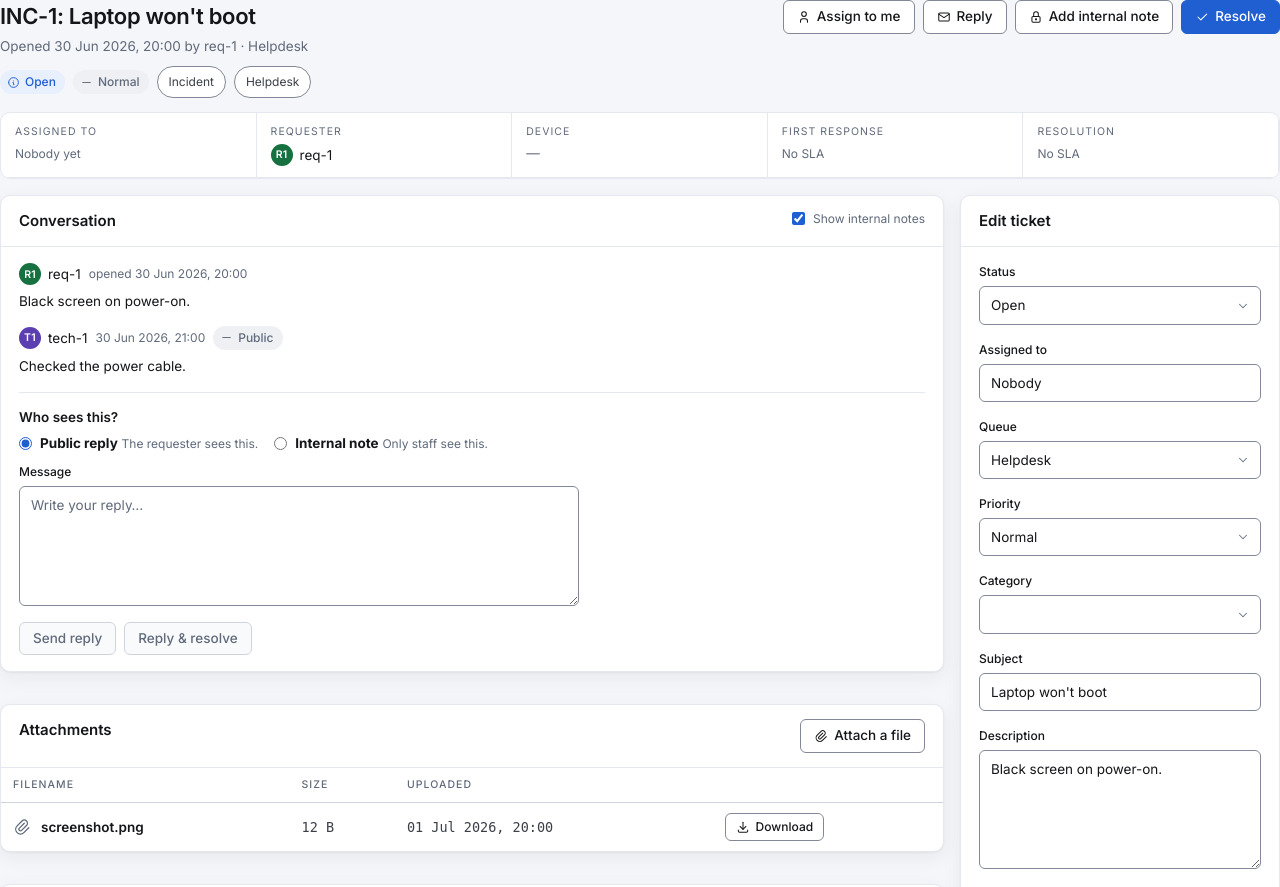
it: service desk reports every failure as an announced sentence › explains a refused assignment
Click the dropdown labelled "Assigned to" at (1120, 383), box [979,364,1261,402]
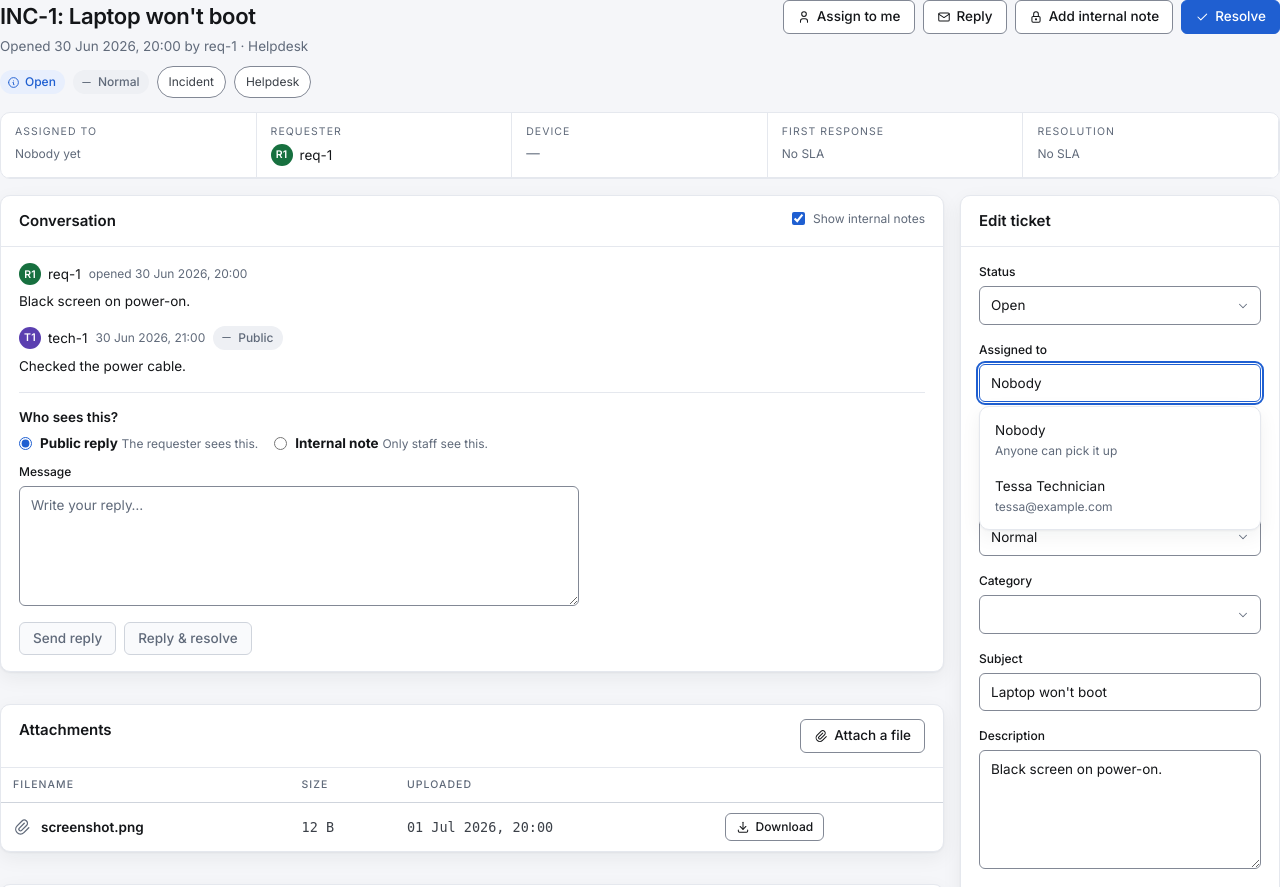
Click the option "Tessa Technician tessa@example.com" at (1050, 486), box [985,468,1255,524]
(page scrolled)
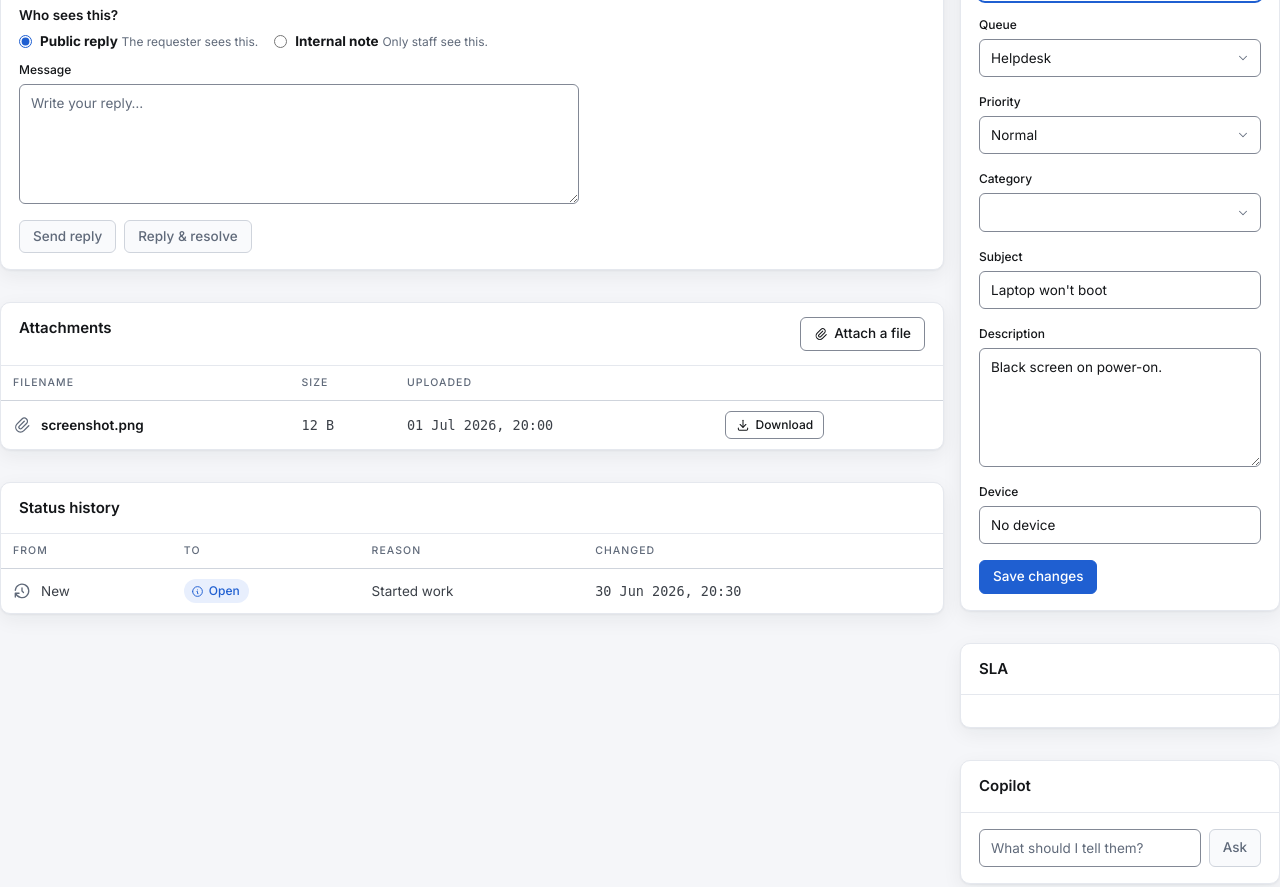
Click the button "Save changes" at (1038, 577), box [979,560,1098,594]
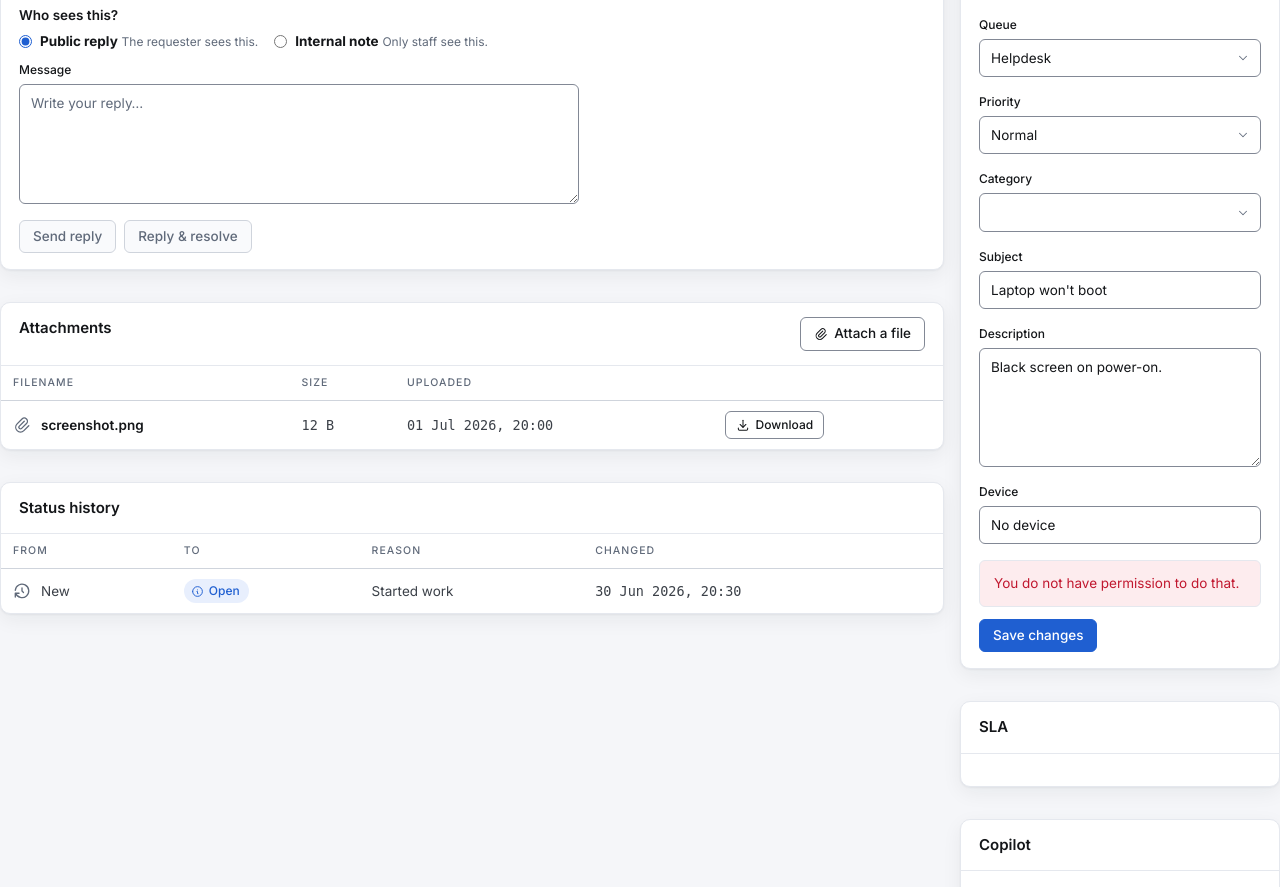
Now the message reads "You do not have permission to do that.", box [994,575,1239,591]
